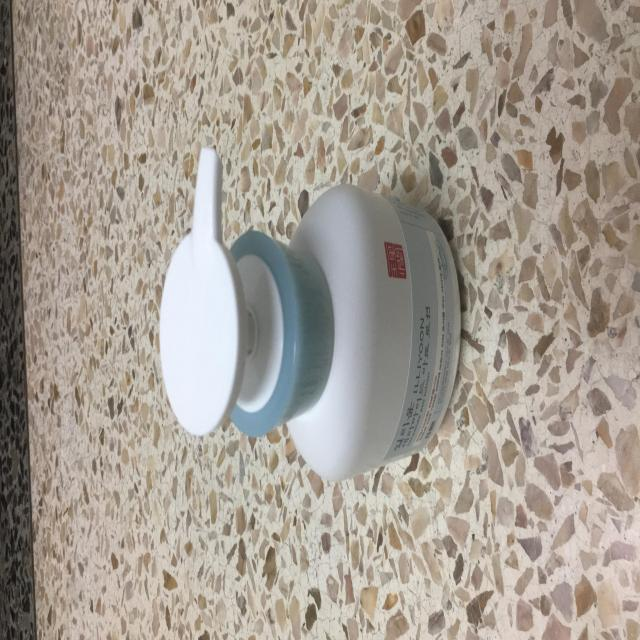bottle: (158, 142, 466, 495)
